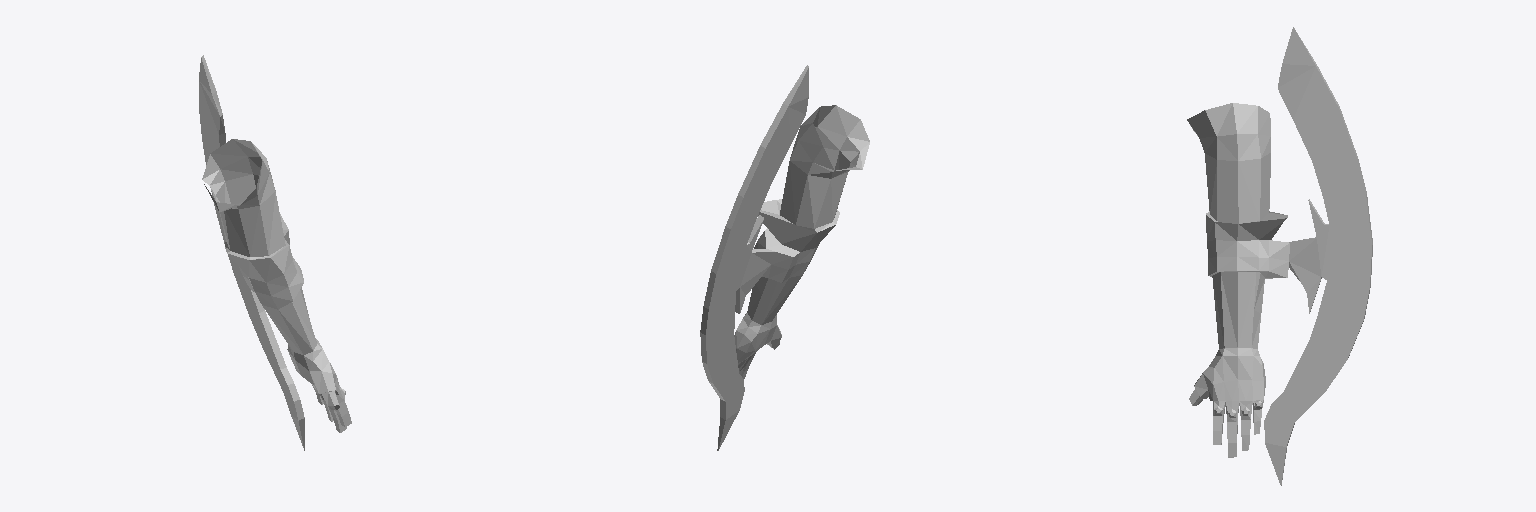
Rendered from playerleftarm.obj.
The picture shows the model from 3 angles: view 1: azimuth 30°, elevation 25°; view 2: azimuth 150°, elevation 25°; view 3: azimuth 270°, elevation 25°; orthographic projection.
Size of the model in its own units: 1.33 by 4 by 1.63.